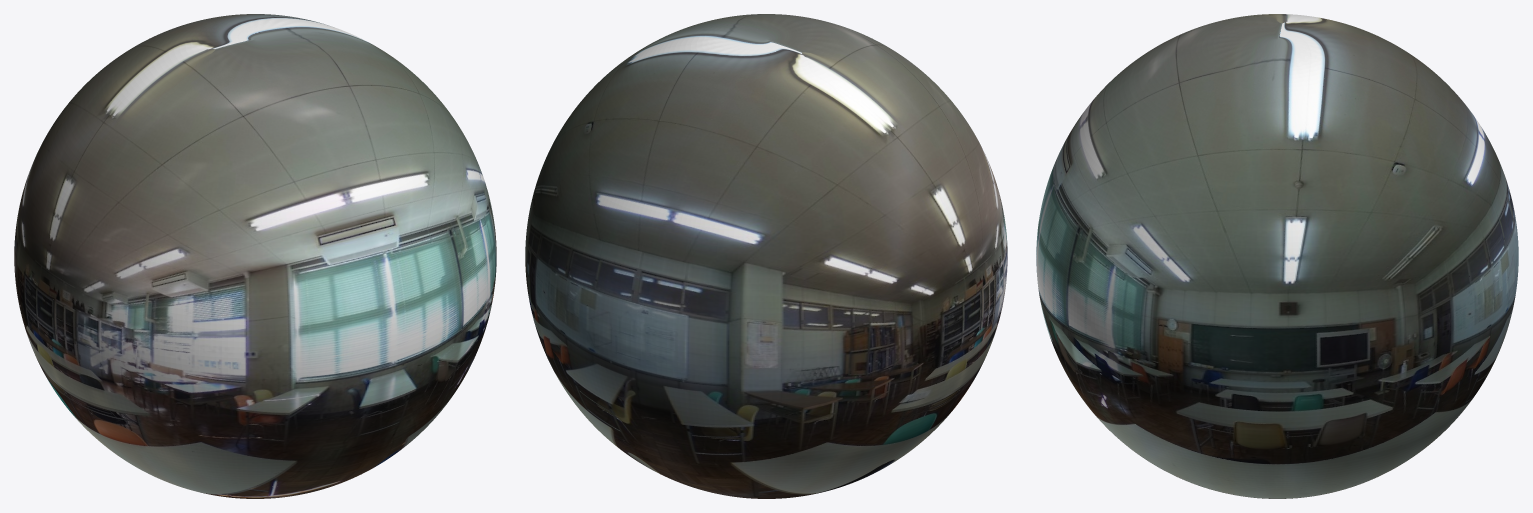
Rendered from kyousitu-1.fbx.
3 renders of one model, left to right at view 1: azimuth 30°, elevation 25°; view 2: azimuth 150°, elevation 25°; view 3: azimuth 270°, elevation 25°, orthographic.
Parts seen in each view (by area): view 1: 球; view 2: 球; view 3: 球.
Boxes of the visible parts, left/top/right/bottom form: 球: left=14, top=14, right=496, bottom=498; 球: left=525, top=14, right=1007, bottom=498; 球: left=1036, top=14, right=1518, bottom=498.
Size of the model in its own units: 197 by 196 by 197.
Materials: 1 (1 with a texture image).
